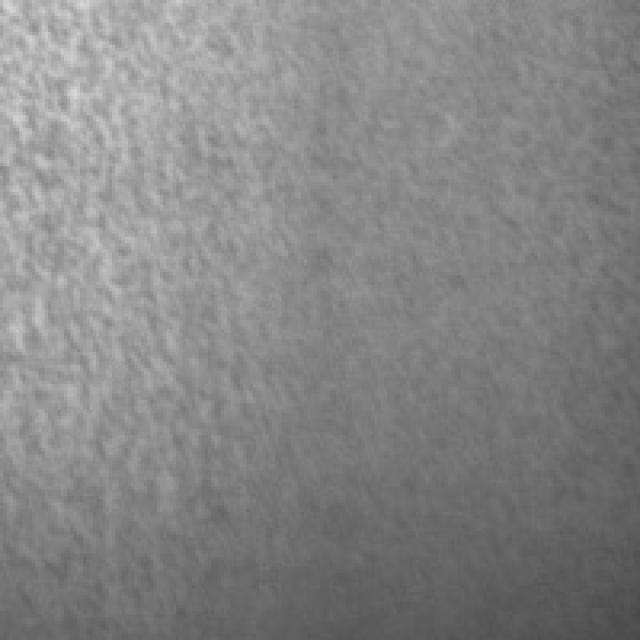pitted_surface: (3, 0, 624, 586)
